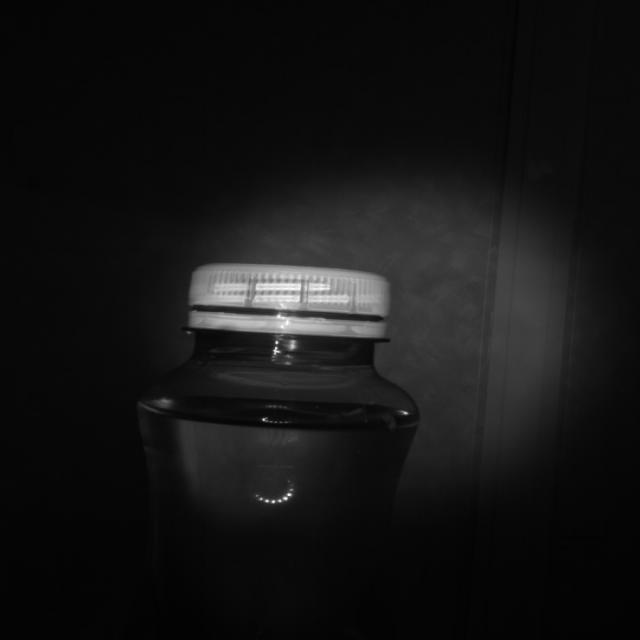Not Good: (188, 262, 390, 341)
